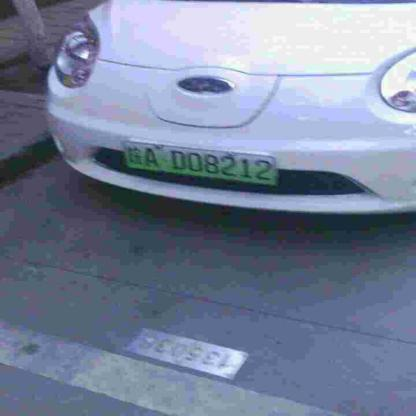lp: (123, 140, 275, 185)
